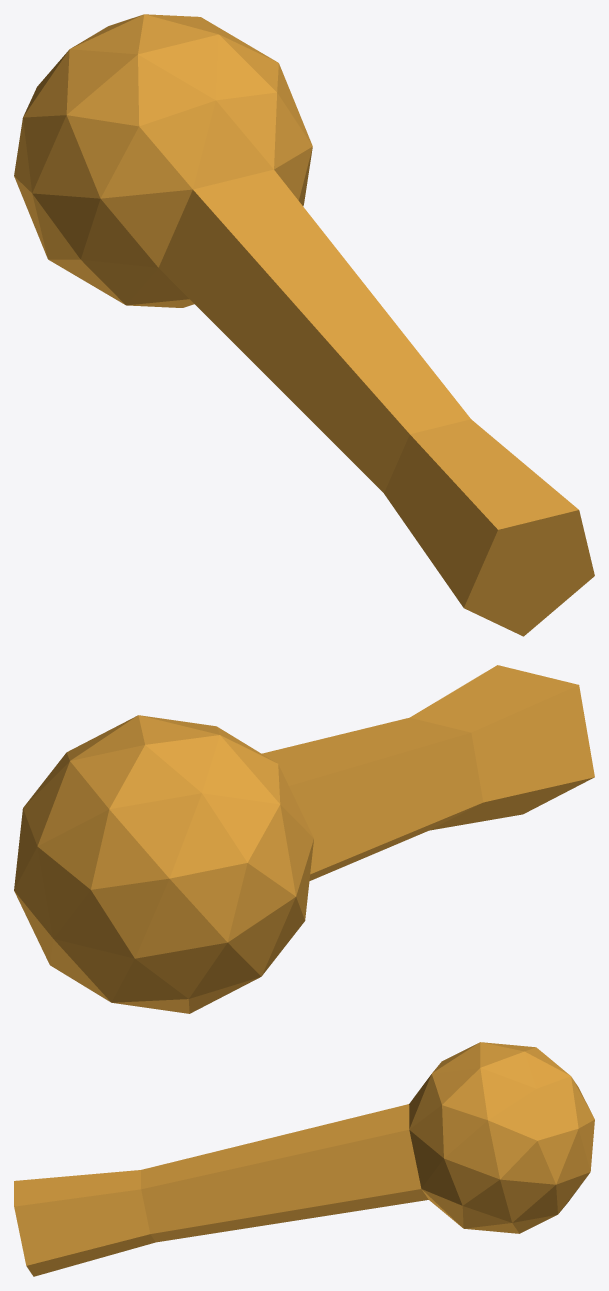
The model's file is Leg_Left.fbx.
3 views of the same model, one above another, from view 1: azimuth 30°, elevation 25°; view 2: azimuth 150°, elevation 25°; view 3: azimuth 270°, elevation 25° (orthographic). The views are drawn at different scales.
Parts seen in each view (by area): view 1: Leg_Left; view 2: Leg_Left; view 3: Leg_Left.
Boxes of the visible parts, x1,y1,x2,y2 form: Leg_Left: [14, 14, 594, 636]; Leg_Left: [14, 665, 594, 1013]; Leg_Left: [14, 1042, 594, 1276].
Size of the model in its own units: 22.53 by 28.37 by 66.41.
